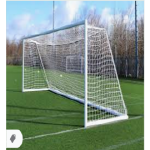goals: (22, 19, 130, 130)
